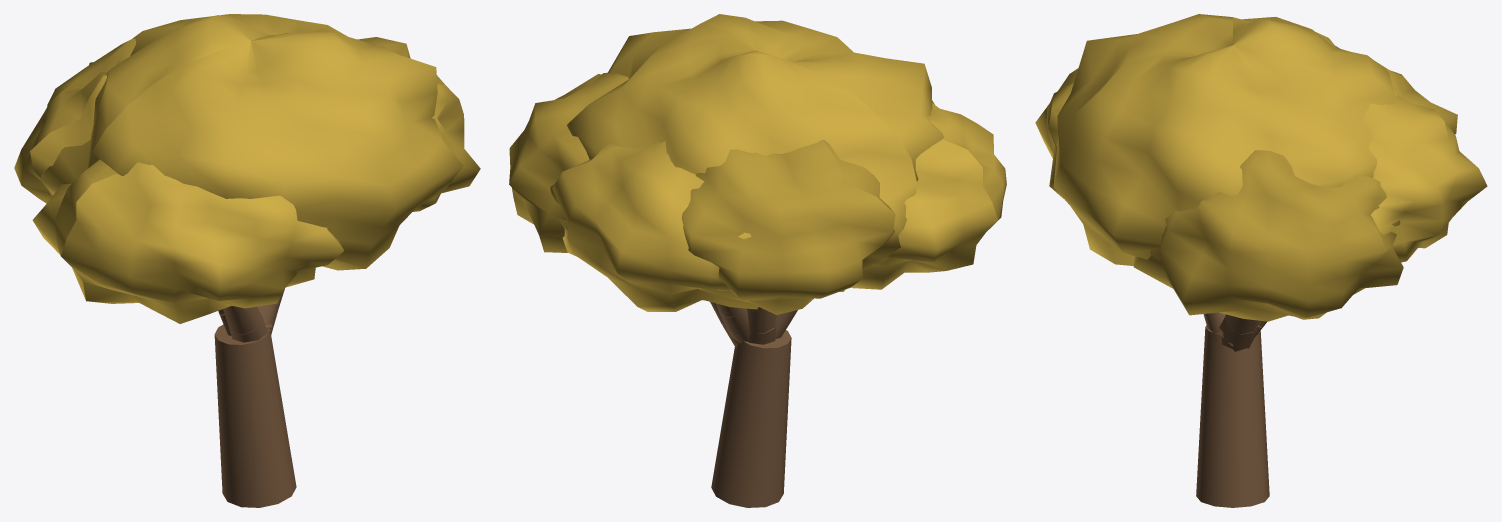
The model's file is birsalma-osz.glb.
The picture shows the model from 3 angles, left to right: view 1: azimuth 30°, elevation 25°; view 2: azimuth 150°, elevation 25°; view 3: azimuth 270°, elevation 25°; orthographic projection. The views are drawn at different scales.
Parts seen in each view (by area): view 1: korona-tomeg, korona-1, torzs, korona-4, korona-2, ag-1-2; view 2: korona-tomeg, korona-4, korona-3, korona-1, torzs, korona-2, ag-4-2; view 3: korona-tomeg, korona-2, korona-3, torzs, korona-1, korona-4, ag-2-1.
Boxes of the visible parts, <box> form: korona-tomeg: <box>39,14,463,270</box>; korona-1: <box>32,159,344,323</box>; torzs: <box>214,324,296,507</box>; korona-4: <box>14,38,135,203</box>; korona-2: <box>357,37,480,211</box>; ag-1-2: <box>224,306,260,334</box>; korona-tomeg: <box>567,14,943,291</box>; korona-4: <box>682,140,900,314</box>; korona-3: <box>550,141,758,311</box>; korona-1: <box>851,100,1006,289</box>; torzs: <box>711,330,791,507</box>; korona-2: <box>509,72,628,252</box>; ag-4-2: <box>747,308,776,333</box>; korona-tomeg: <box>1053,14,1395,265</box>; korona-2: <box>1133,150,1403,321</box>; korona-3: <box>1363,95,1487,262</box>; torzs: <box>1196,325,1269,507</box>; korona-1: <box>1035,68,1078,198</box>; korona-4: <box>1316,32,1457,134</box>; ag-2-1: <box>1219,318,1257,351</box>.
Bounding box in the file's own units: 3.78 × 3.9 × 3.44.
